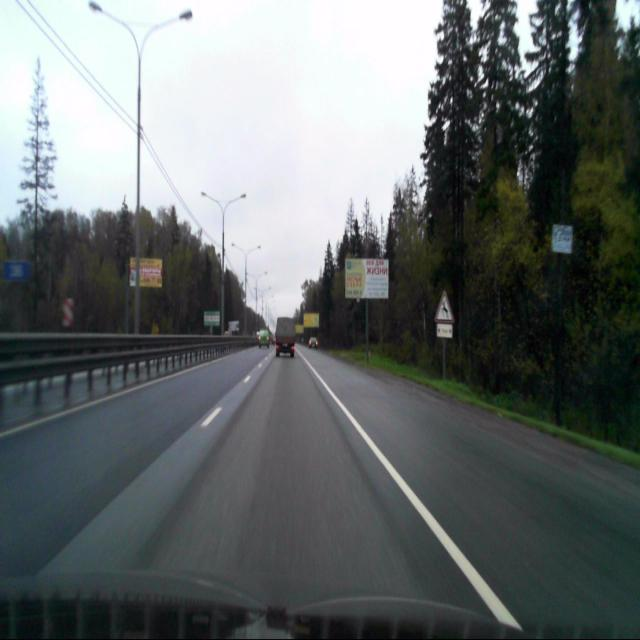road sign: (434, 291, 455, 324)
